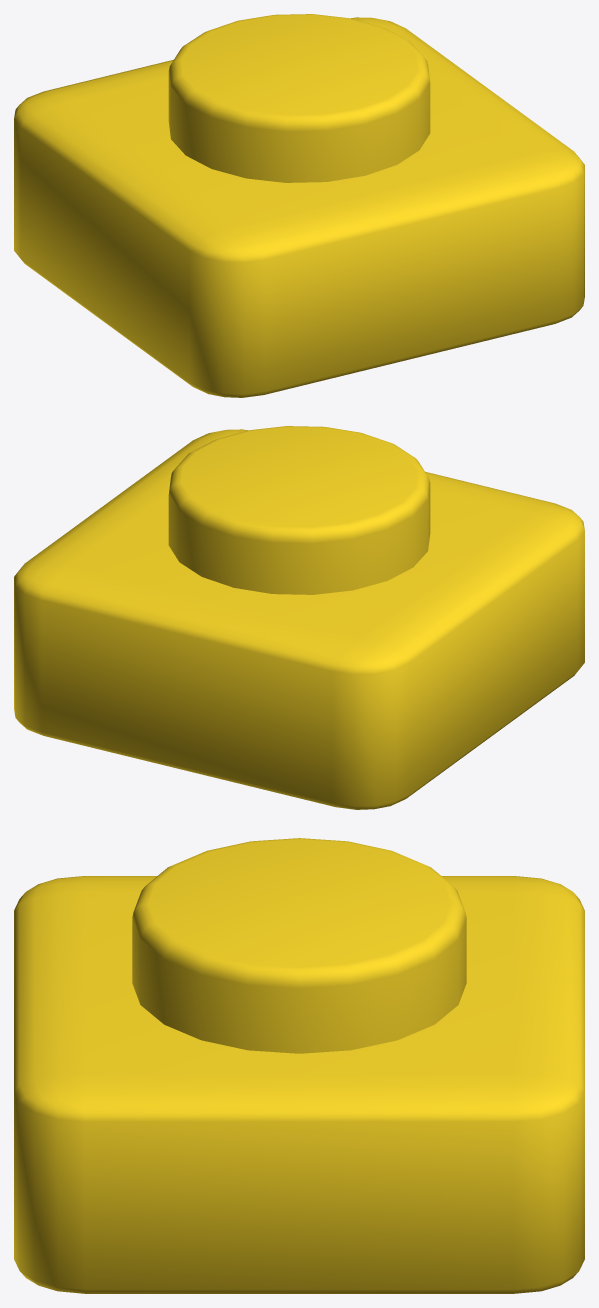
The model's file is SingleBlock.fbx.
The picture shows the model from 3 angles, top to bottom: view 1: azimuth 30°, elevation 25°; view 2: azimuth 150°, elevation 25°; view 3: azimuth 270°, elevation 25°; orthographic projection. The views are drawn at different scales.
Visible parts, largest first — view 1: SingleBlock; view 2: SingleBlock; view 3: SingleBlock.
Part boxes in pixels (x1=…): SingleBlock: x1=14, y1=14, x2=584, y2=397; SingleBlock: x1=14, y1=426, x2=584, y2=809; SingleBlock: x1=14, y1=838, x2=584, y2=1293.
Bounding box in the file's own units: 64.95 × 34.17 × 64.95.
